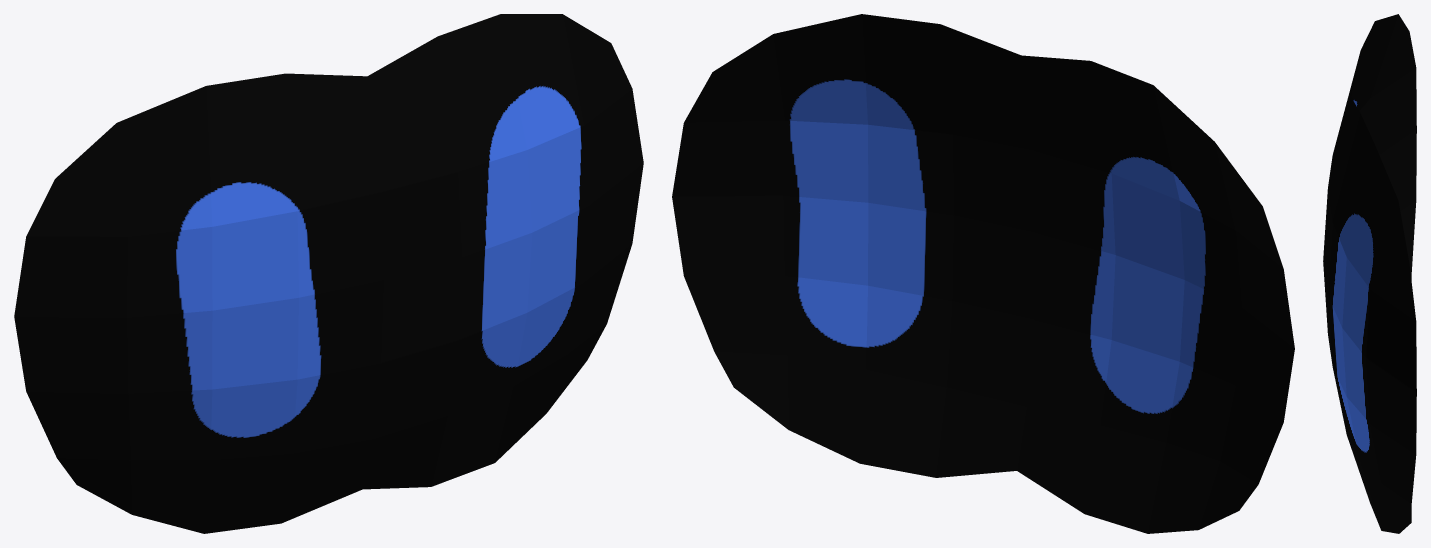
The model's file is facev1.fbx.
The picture shows the model from 3 angles, left to right: view 1: azimuth 30°, elevation 25°; view 2: azimuth 150°, elevation 25°; view 3: azimuth 270°, elevation 25°; orthographic projection. The views are drawn at different scales.
Parts seen in each view (by area): view 1: m5FACE; view 2: m5FACE; view 3: m5FACE.
Part boxes in pixels (left/top/right/bottom): m5FACE: left=14, top=14, right=643, bottom=533; m5FACE: left=672, top=14, right=1294, bottom=533; m5FACE: left=1323, top=14, right=1416, bottom=533.
Bounding box in the file's own units: 131 × 90.44 × 19.71.
